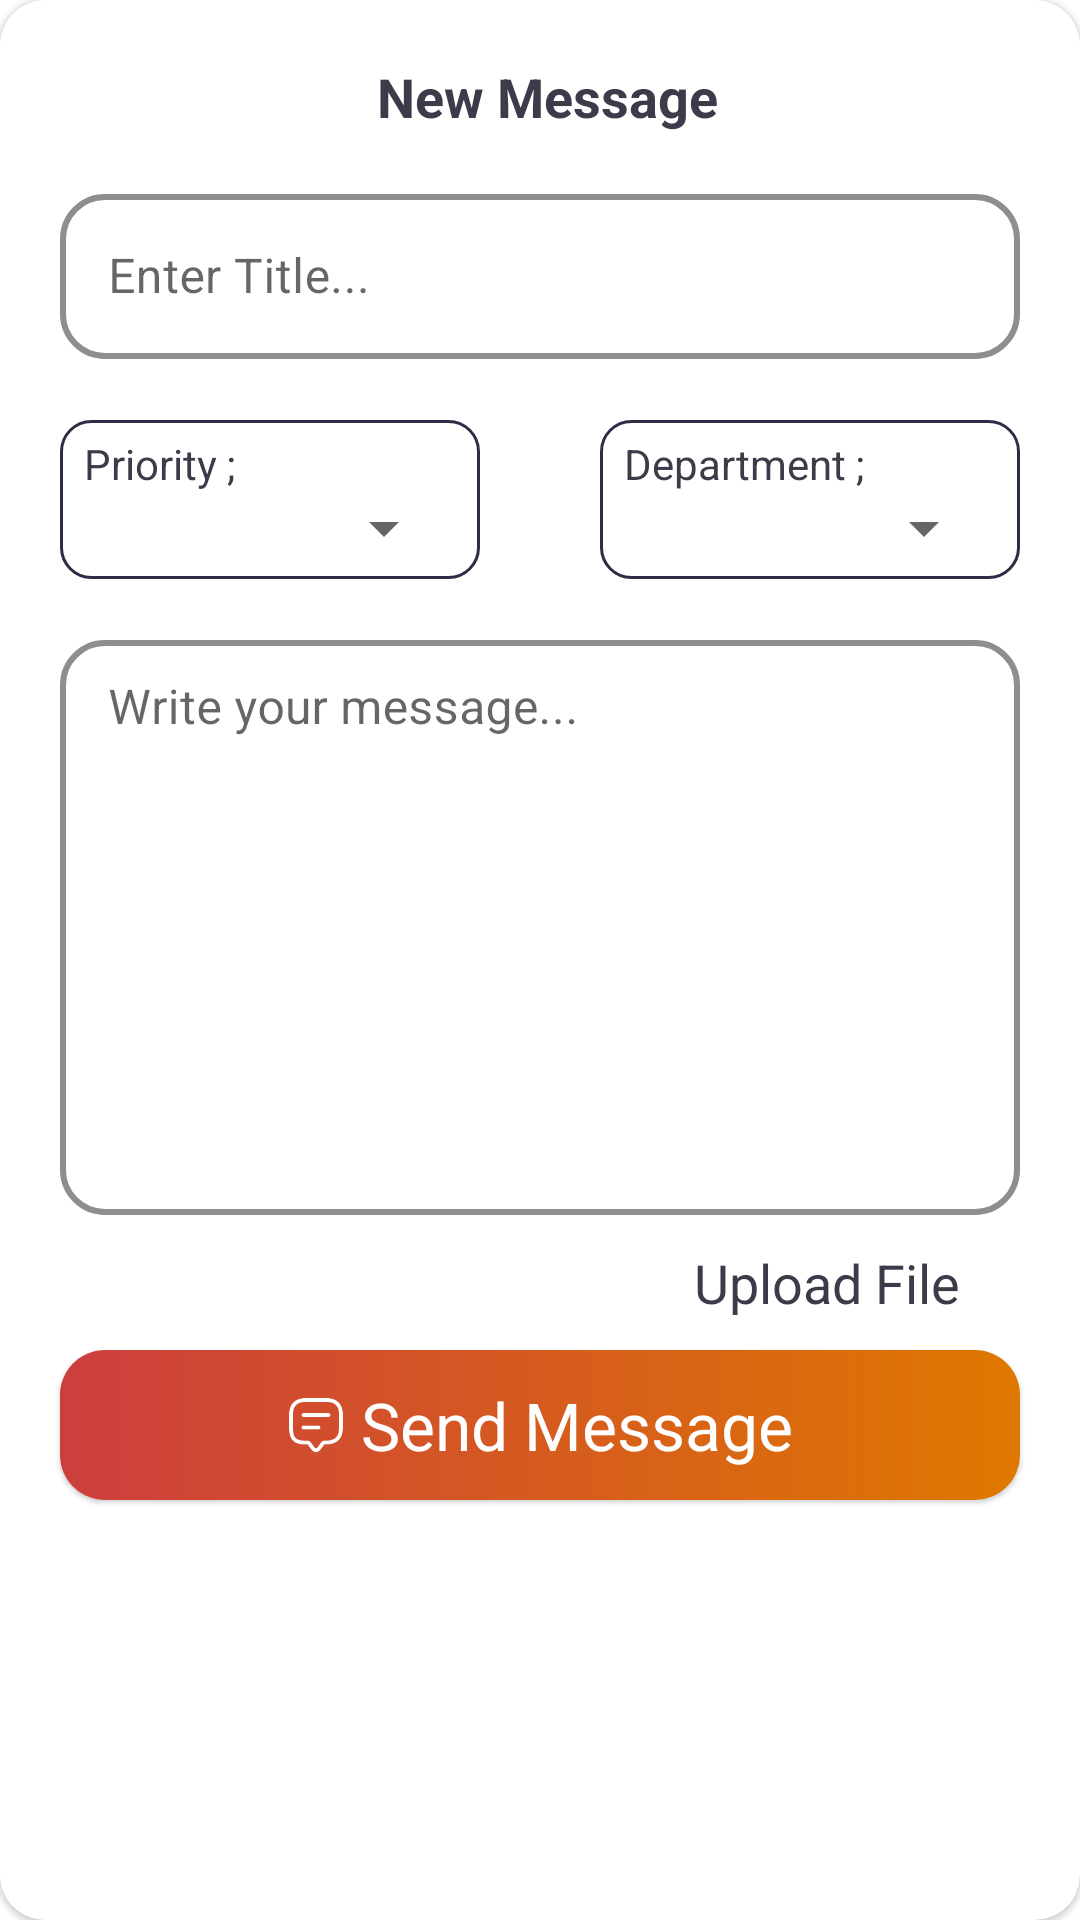

Icon bounding boxes for this 1080*1920 phone screenshot, format box(x1, y1, x2, y2):
messages: box(289, 1398, 343, 1452)
